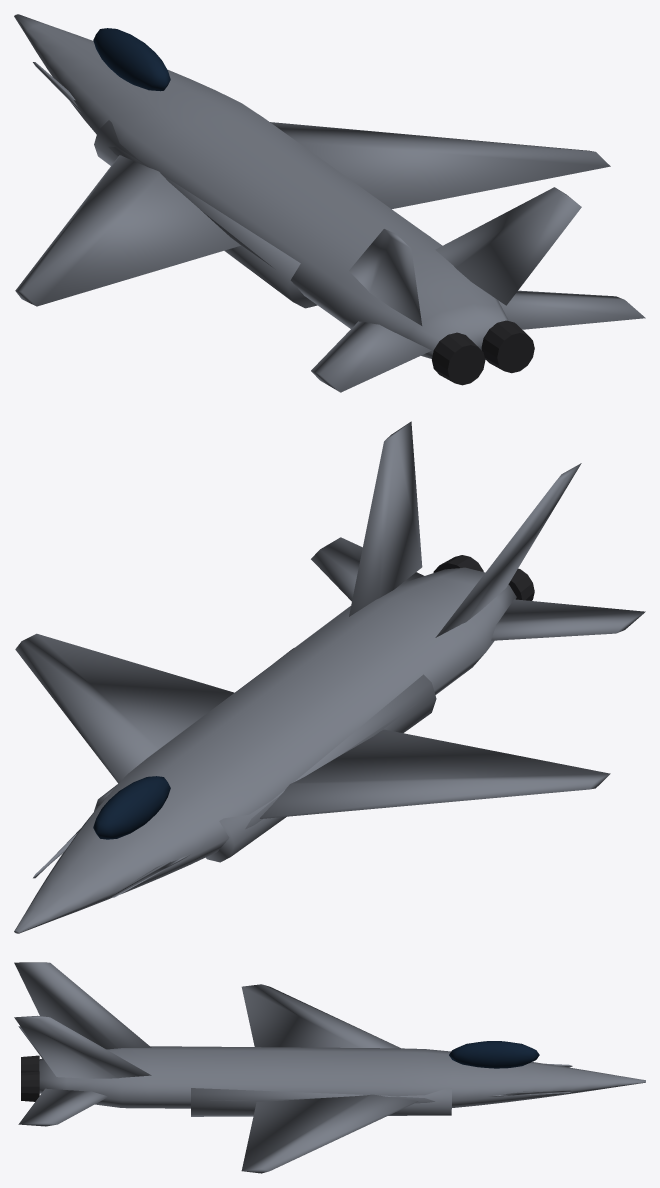
The picture shows the model from 3 angles, top to bottom: view 1: azimuth 30°, elevation 25°; view 2: azimuth 150°, elevation 25°; view 3: azimuth 270°, elevation 25°; orthographic projection. The views are drawn at different scales.
Visible parts, largest first — view 1: Body, Detail, Canopy; view 2: Body, Canopy, Detail; view 3: Body, Canopy, Detail.
Part boxes in pixels (bbox=[...]): Body: bbox=[14, 14, 645, 392]; Detail: bbox=[432, 320, 534, 385]; Canopy: bbox=[93, 28, 170, 91]; Body: bbox=[14, 421, 645, 933]; Canopy: bbox=[93, 776, 170, 839]; Detail: bbox=[433, 555, 534, 600]; Body: bbox=[14, 962, 645, 1173]; Canopy: bbox=[449, 1041, 539, 1068]; Detail: bbox=[21, 1055, 39, 1101].
Size of the model in its own units: 13.6 by 3.79 by 19.69.
